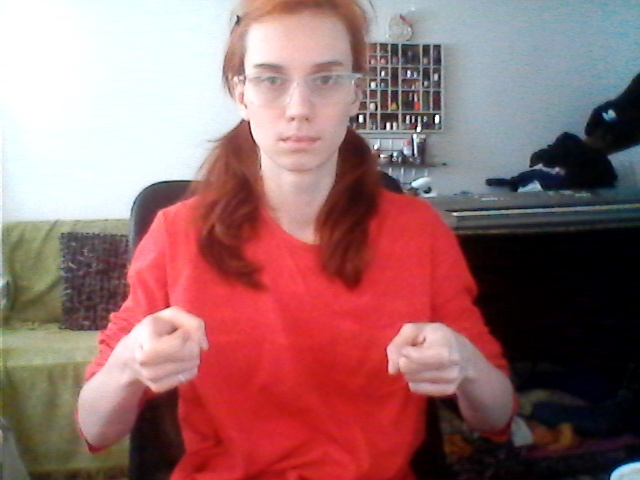davat: (118, 299, 465, 402)
